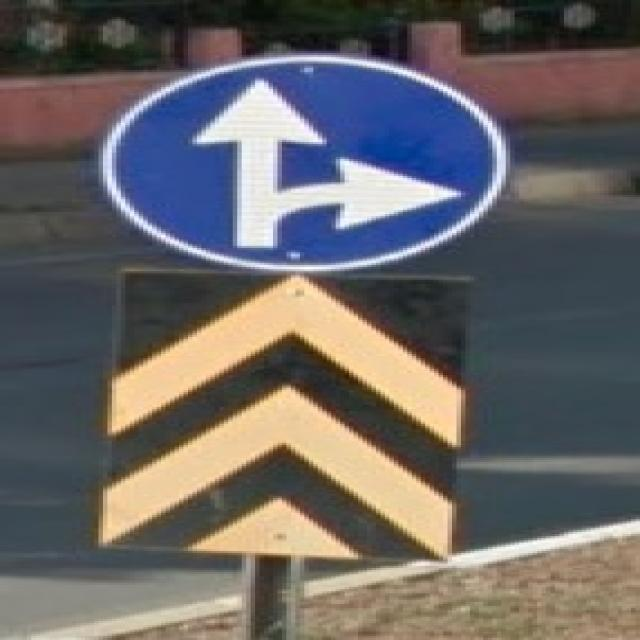Straight or Right: (115, 57, 500, 269)
